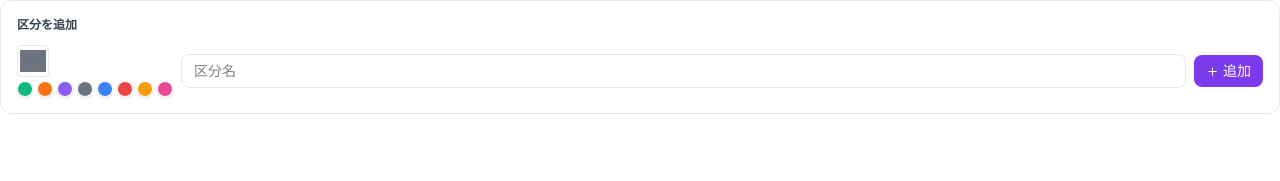
Scenario: AddCategoryForm › 追加の失敗が4xxならAPIの理由を読み上げる
The image size is (1280, 181).
Type "練習" into the field with placeholder "区分名" at (684, 71), box [181,54,1186,88]
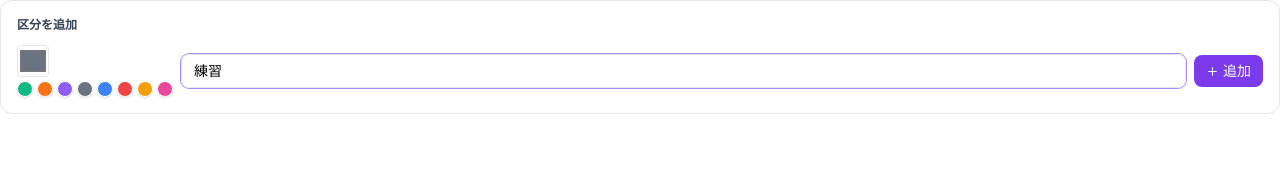
Click the button "追加" at (1228, 71), box [1194,55,1263,87]
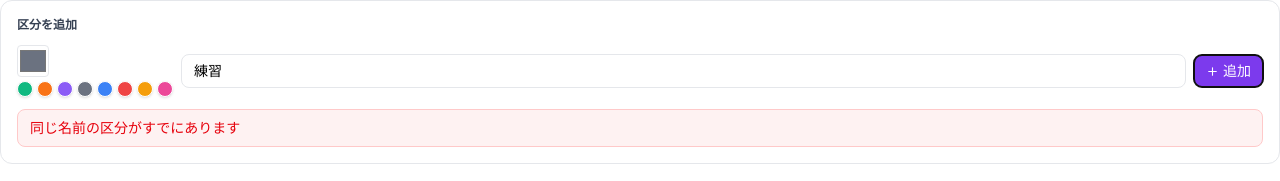
Result: the message reads "同じ名前の区分がすでにあります" at [30,119,240,136]
